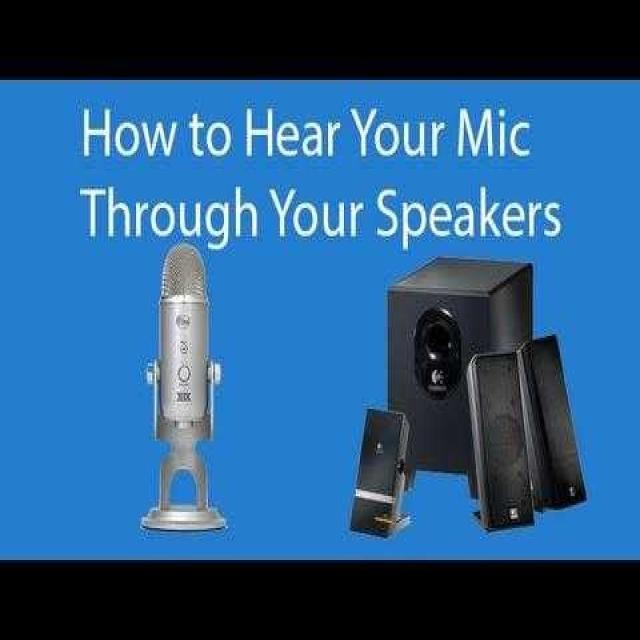microphone: (152, 235, 217, 489)
